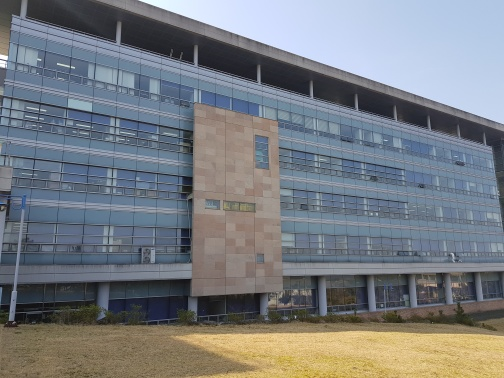Engineering College Building 4: (15, 7, 498, 323), (237, 99, 489, 305), (169, 31, 301, 316)
